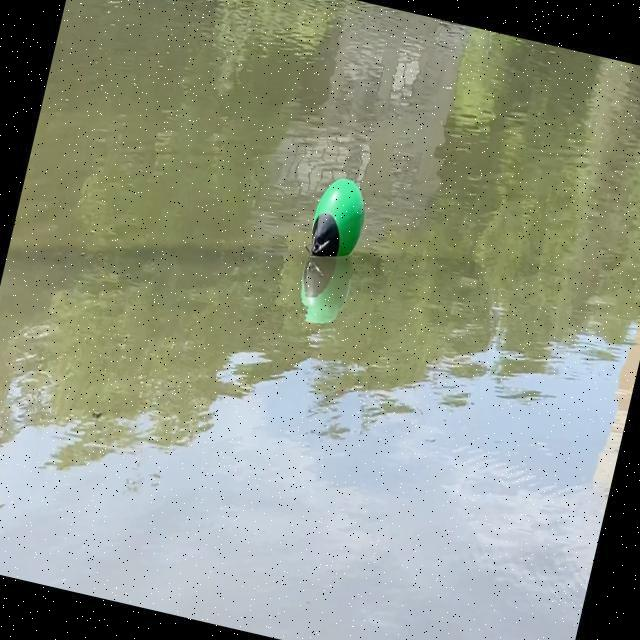buoy: (302, 172, 371, 266)
